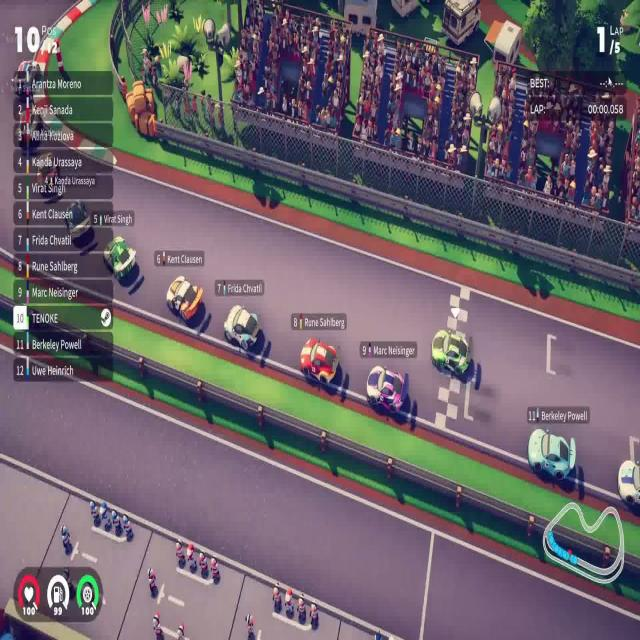car: (527, 427, 576, 482), (365, 364, 409, 415), (430, 327, 472, 379), (299, 337, 339, 387), (166, 274, 203, 324), (223, 303, 260, 352), (103, 235, 136, 281)
